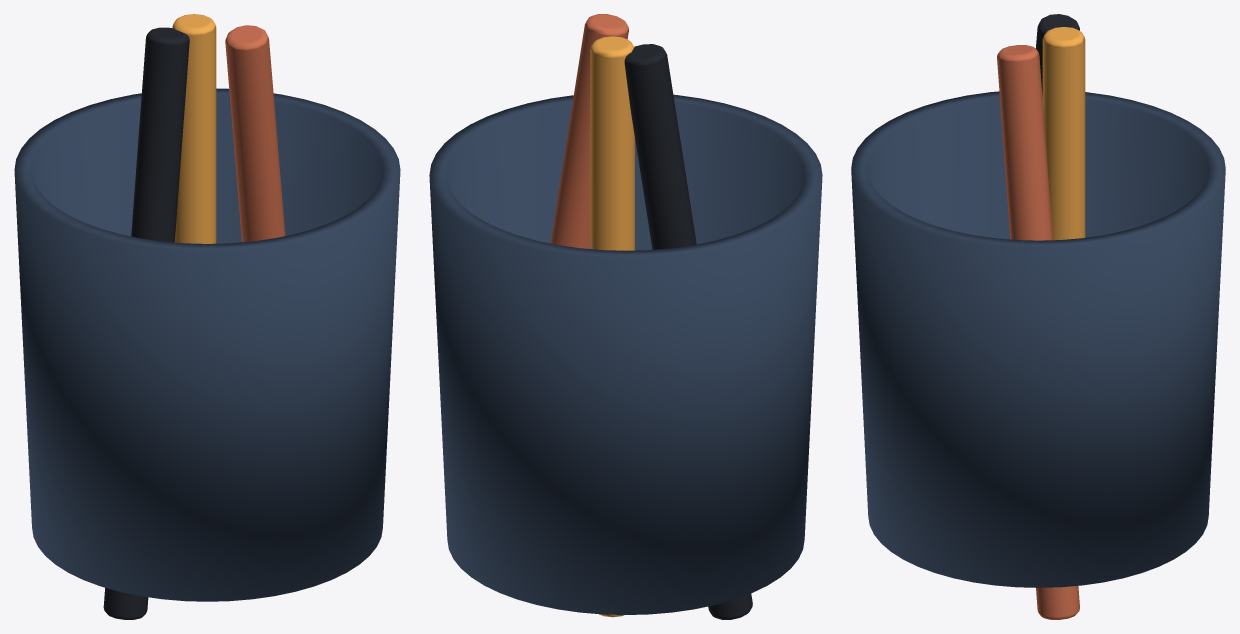
File: pencup.glb
3 renders of one model, left to right at view 1: azimuth 30°, elevation 25°; view 2: azimuth 150°, elevation 25°; view 3: azimuth 270°, elevation 25°, orthographic. The views are drawn at different scales.
Parts seen in each view (by area): view 1: PenCup, Pen, Pen.002, Pen.001; view 2: PenCup, Pen, Pen.001, Pen.002; view 3: PenCup, Pen.002, Pen.001, Pen.
Part boxes in pixels (x1,y1,x2,y2): PenCup: (14,88,400,601); Pen: (103,27,189,619); Pen.002: (225,25,285,242); Pen.001: (172,14,216,243); PenCup: (429,94,822,614); Pen: (624,44,752,619); Pen.001: (590,36,634,617); Pen.002: (550,14,628,248); PenCup: (851,91,1225,587); Pen.002: (997,45,1079,619); Pen.001: (1042,27,1085,240); Pen: (1036,14,1079,96).
Size of the model in its own units: 0.088 by 0.14 by 0.088.
